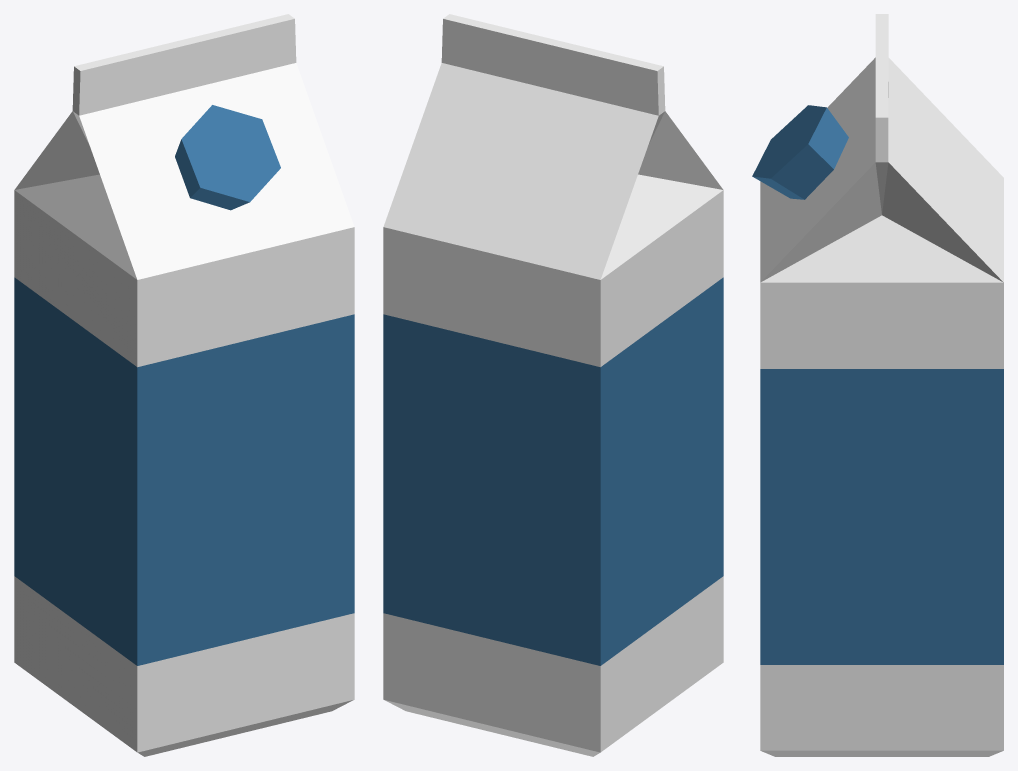
Rendered from milk-box.glb.
3 views of the same model, side by side, from view 1: azimuth 30°, elevation 25°; view 2: azimuth 150°, elevation 25°; view 3: azimuth 270°, elevation 25° (orthographic).
Parts seen in each view (by area): view 1: milk-box; view 2: milk-box; view 3: milk-box.
Part boxes in pixels (x1=…): milk-box: x1=14, y1=14, x2=354, y2=756; milk-box: x1=383, y1=14, x2=723, y2=756; milk-box: x1=752, y1=14, x2=1003, y2=756.
Size of the model in its own units: 0.1009 by 0.2895 by 0.1023.
Materials: 1 (1 with a texture image).
